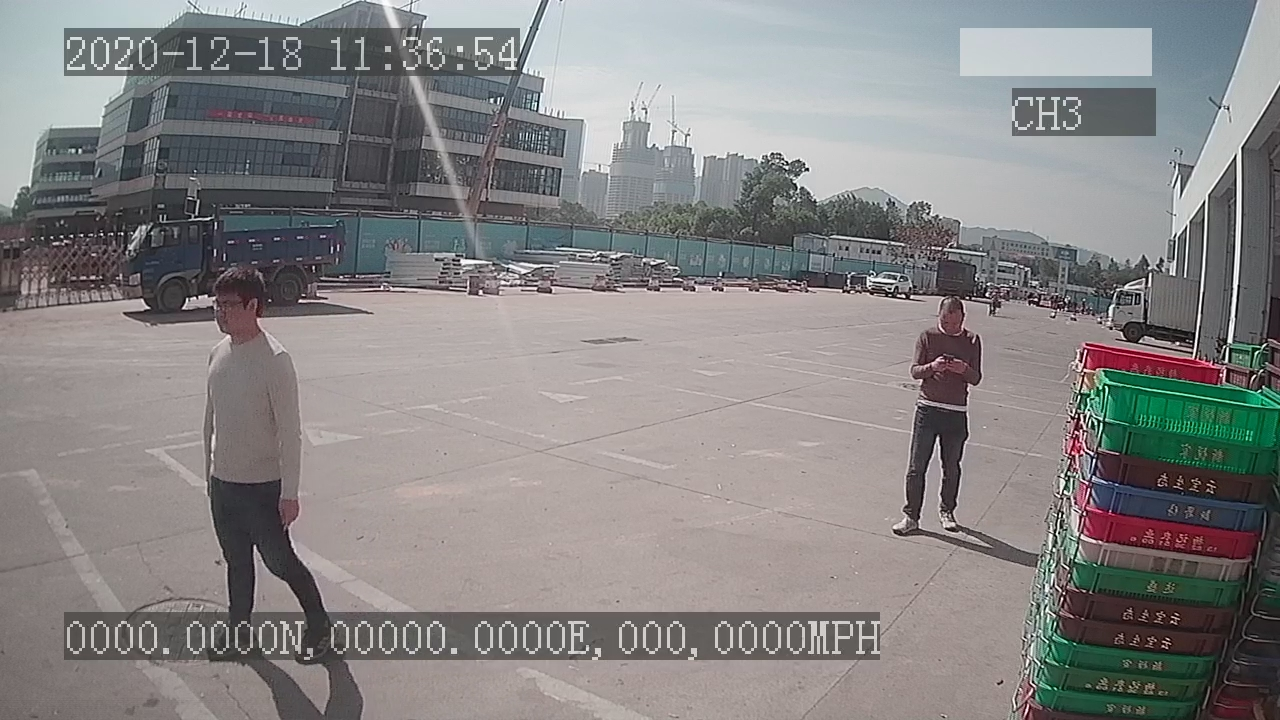person: (886, 292, 988, 541)
